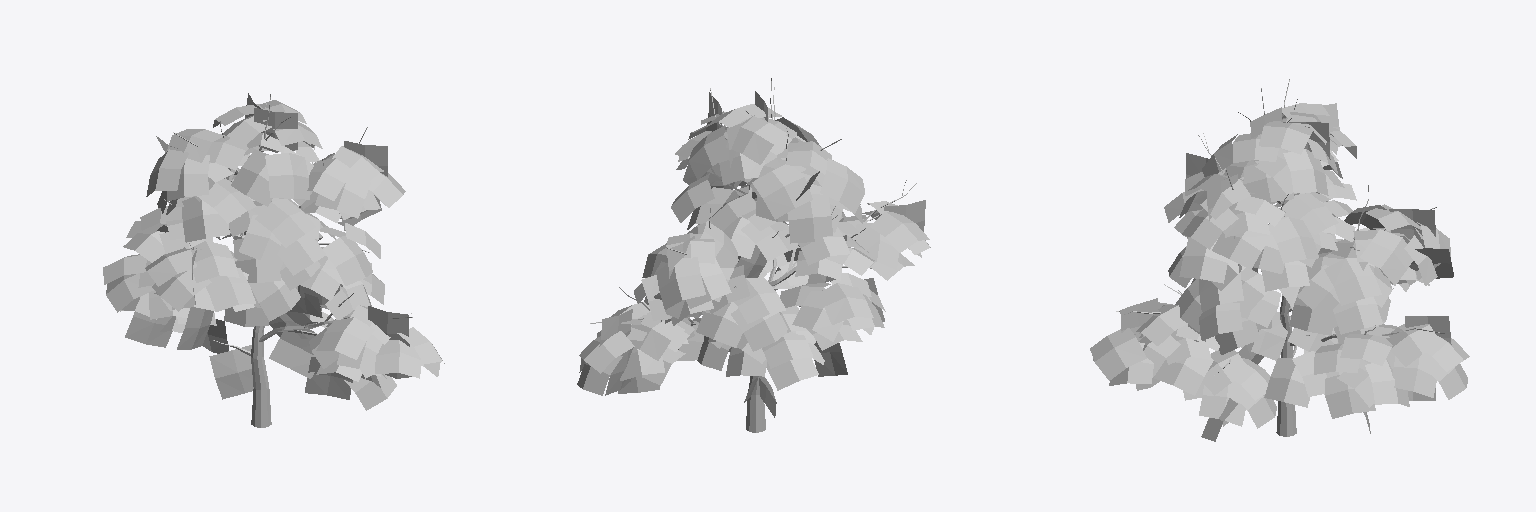
Rendered from tree2b_lod0.obj.
3 renders of one model, left to right at view 1: azimuth 30°, elevation 25°; view 2: azimuth 150°, elevation 25°; view 3: azimuth 270°, elevation 25°, orthographic.
Visible parts, largest first — view 1: leaves 0.0 0.[number redacted] 0.0 0 0 0 0.[number redacted] 0.948296, bark 0.[number redacted] -0.[number redacted] -0.[number redacted]; view 2: leaves 0.0 0.[number redacted] 0.0 0 0 0 0.[number redacted] 0.948296, bark 0.[number redacted] -0.[number redacted] -0.[number redacted]; view 3: leaves 0.0 0.[number redacted] 0.0 0 0 0 0.[number redacted] 0.948296, bark 0.[number redacted] -0.[number redacted] -0.[number redacted].
Part boxes in pixels (left/top/right/bottom): leaves 0.0 0.[number redacted] 0.0 0 0 0 0.[number redacted] 0.948296: left=103, top=93, right=444, bottom=410; bark 0.[number redacted] -0.[number redacted] -0.[number redacted]: left=164, top=94, right=412, bottom=427; leaves 0.0 0.[number redacted] 0.0 0 0 0 0.[number redacted] 0.948296: left=577, top=91, right=930, bottom=417; bark 0.[number redacted] -0.[number redacted] -0.[number redacted]: left=590, top=78, right=916, bottom=432; leaves 0.0 0.[number redacted] 0.0 0 0 0 0.[number redacted] 0.948296: left=1090, top=103, right=1469, bottom=441; bark 0.[number redacted] -0.[number redacted] -0.[number redacted]: left=1116, top=79, right=1444, bottom=436.
Bounding box in the file's own units: 0.7894 × 1 × 1.